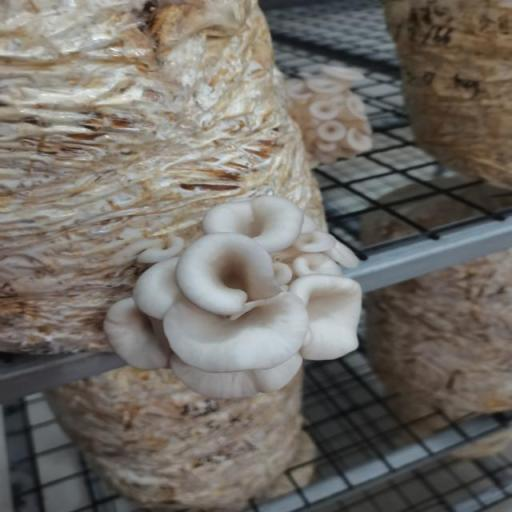White Oyster Mushroom: (99, 195, 373, 407)
